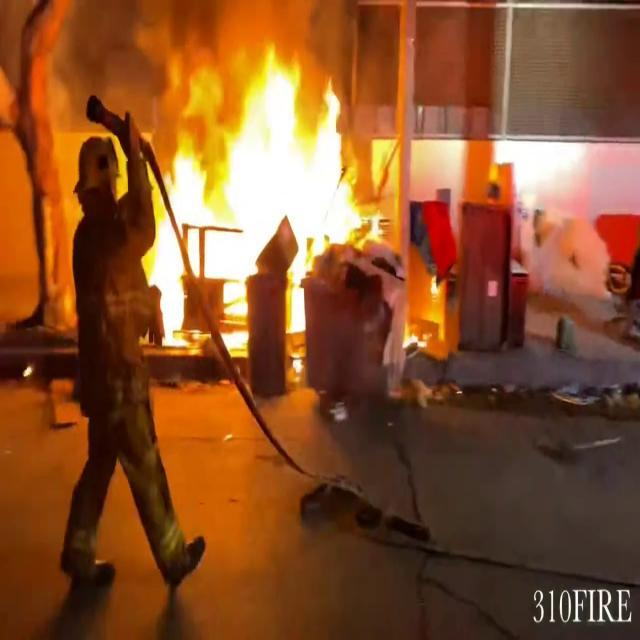Fire: (137, 37, 381, 364)
